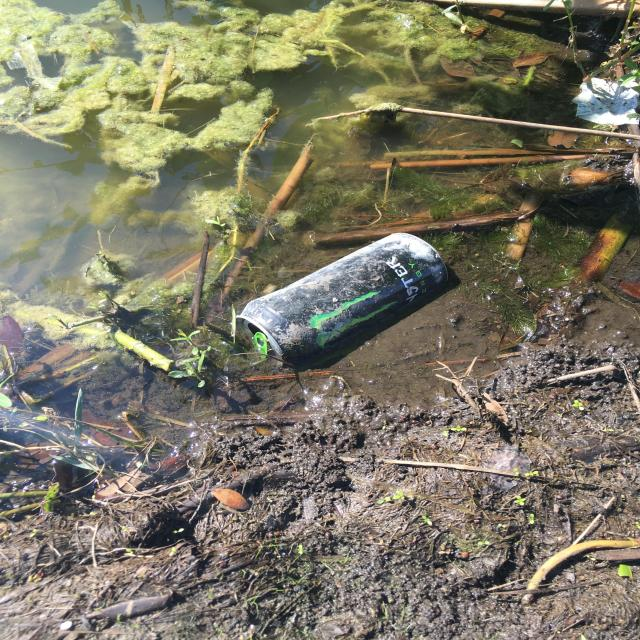litter: (233, 232, 448, 372)
